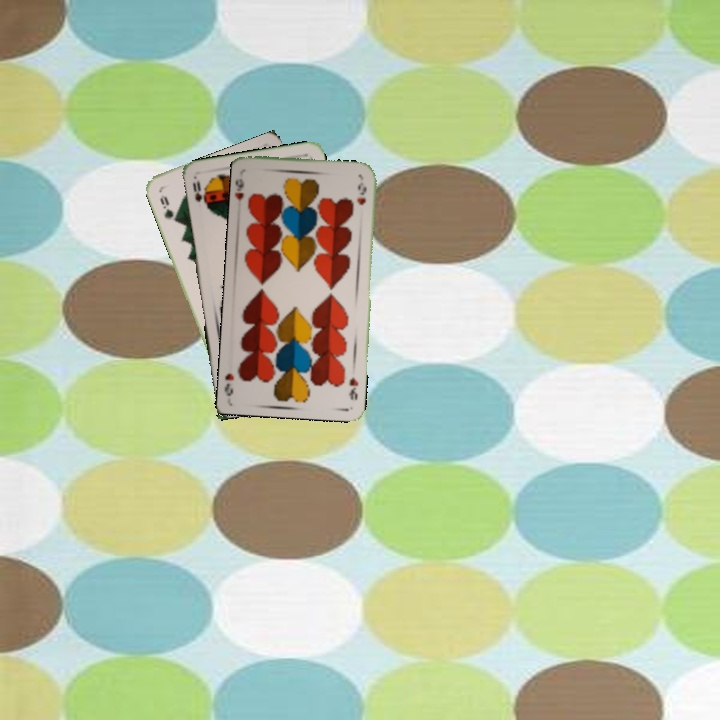G9: (156, 191, 181, 225)
H9: (233, 175, 247, 209), (345, 373, 361, 402)
SO: (189, 177, 205, 204)
